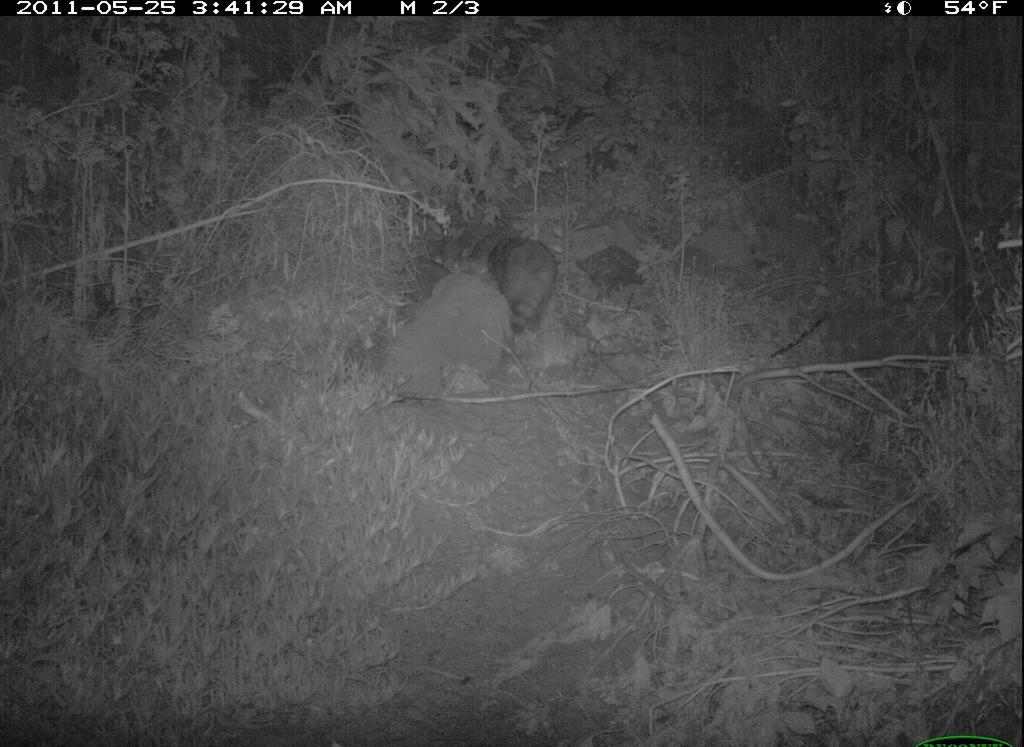raccoon: (484, 233, 566, 340)
